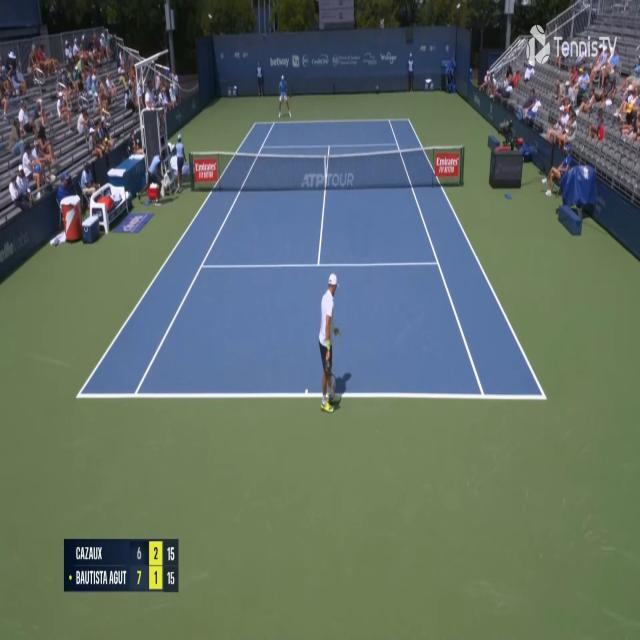tennis-player: (316, 268, 353, 416), (276, 72, 294, 119)
